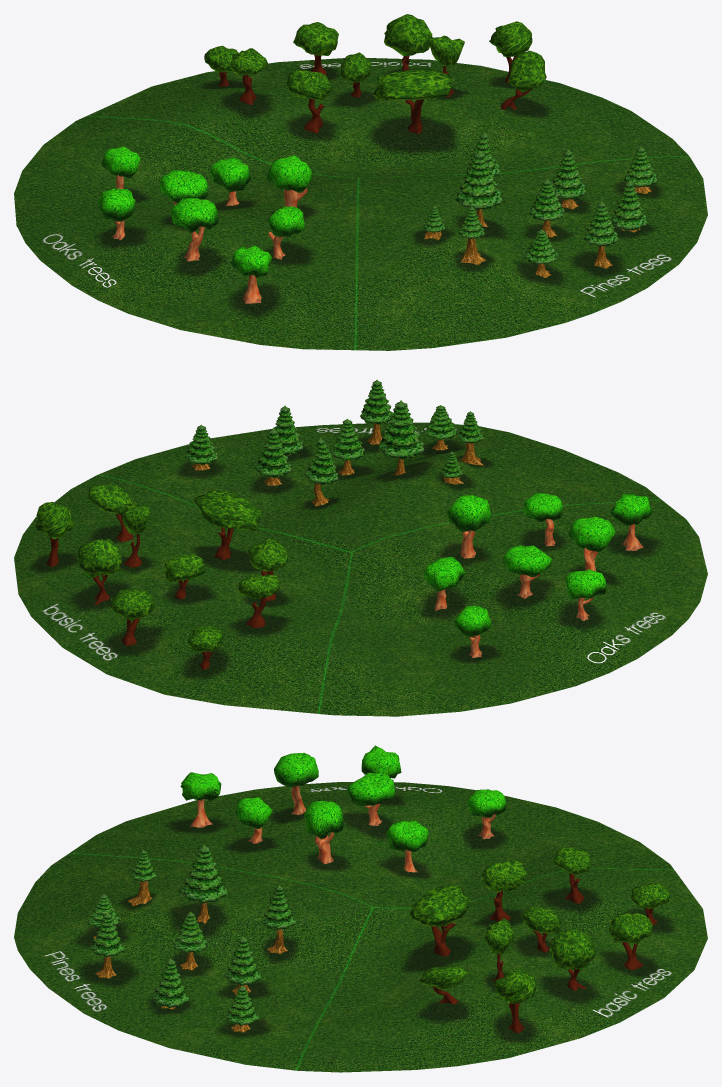
File: trees Cartoon group.fbx
The picture shows the model from 3 angles, top to bottom: view 1: azimuth 30°, elevation 25°; view 2: azimuth 150°, elevation 25°; view 3: azimuth 270°, elevation 25°; orthographic projection.
Parts seen in each view (by area): view 1: floor, arbol 02 C, pino 7, three 07, arbol 02 D.2, three 05, arbol 02 F, arbol 02 D, three 06, arbol 02 E, three 04, arbol 02 B (+15 smaller); view 2: floor, arbol 02 C, pino 7, arbol 02 D.2, three 05, three 07, three 04, arbol 02 E, arbol 02 B, three 06, pino 4, three 02 (+16 smaller); view 3: floor, arbol 02 C, pino 7, arbol 02 D.2, three 05, three 07, three 04, arbol 02 F, arbol 02 B, arbol 02 E, three 06, three 02 (+16 smaller).
Part boxes in pixels (x1=…): floor: x1=14, y1=58, x2=707, y2=350; arbol 02 C: x1=373, y1=69, x2=454, y2=134; pino 7: x1=456, y1=150, x2=503, y2=227; three 07: x1=170, y1=198, x2=218, y2=261; arbol 02 D.2: x1=384, y1=14, x2=432, y2=71; three 05: x1=266, y1=155, x2=312, y2=207; arbol 02 F: x1=286, y1=69, x2=332, y2=132; arbol 02 D: x1=501, y1=50, x2=546, y2=109; three 06: x1=231, y1=245, x2=272, y2=303; arbol 02 E: x1=293, y1=22, x2=338, y2=74; three 04: x1=160, y1=170, x2=208, y2=204; arbol 02 B: x1=489, y1=21, x2=532, y2=82; floor: x1=14, y1=422, x2=707, y2=716; arbol 02 C: x1=194, y1=489, x2=261, y2=559; pino 7: x1=378, y1=400, x2=424, y2=475; arbol 02 D.2: x1=77, y1=538, x2=122, y2=604; three 05: x1=447, y1=495, x2=490, y2=558; three 07: x1=568, y1=516, x2=615, y2=571; three 04: x1=503, y1=545, x2=552, y2=598; arbol 02 E: x1=110, y1=588, x2=154, y2=645; arbol 02 B: x1=35, y1=502, x2=73, y2=566; three 06: x1=610, y1=493, x2=653, y2=550; pino 4: x1=255, y1=428, x2=291, y2=485; three 02: x1=423, y1=556, x2=465, y2=610; floor: x1=14, y1=782, x2=707, y2=1072; arbol 02 C: x1=410, y1=885, x2=469, y2=956; pino 7: x1=180, y1=844, x2=228, y2=923; arbol 02 D.2: x1=549, y1=929, x2=595, y2=990; three 05: x1=304, y1=801, x2=343, y2=863; three 07: x1=274, y1=752, x2=318, y2=814; three 04: x1=347, y1=773, x2=394, y2=825; arbol 02 F: x1=481, y1=860, x2=527, y2=921; arbol 02 B: x1=493, y1=968, x2=535, y2=1032; arbol 02 E: x1=608, y1=912, x2=652, y2=969; three 06: x1=180, y1=772, x2=221, y2=827; three 02: x1=386, y1=820, x2=428, y2=872.
Size of the model in its own units: 887 by 147 by 897.
